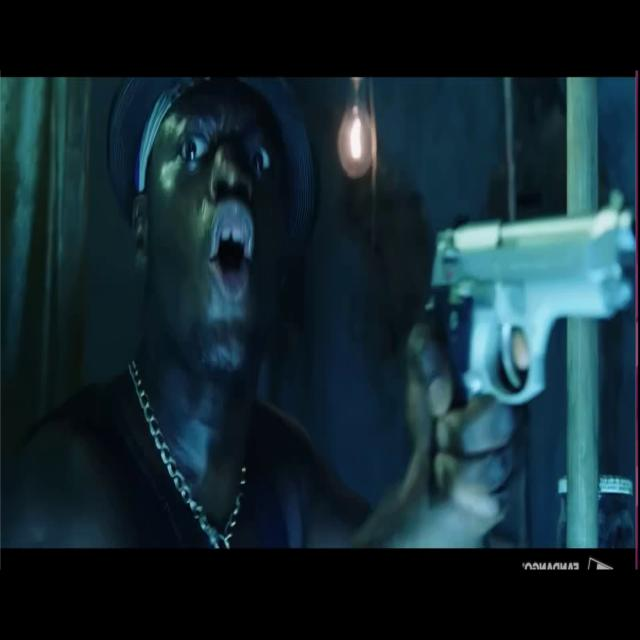weapons: (414, 181, 634, 481)
